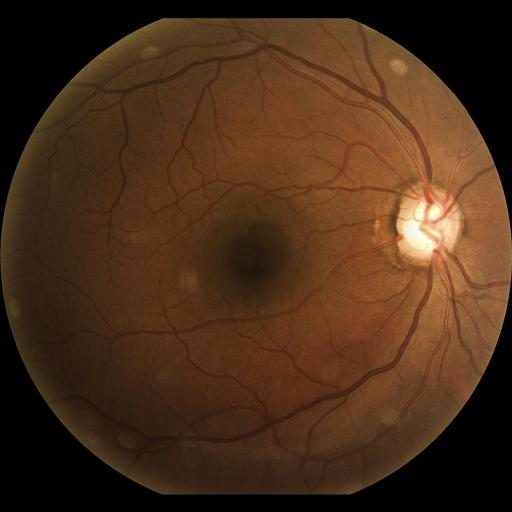Optic Cup: (402, 201, 452, 254)
Optic Disc: (391, 183, 462, 265)
